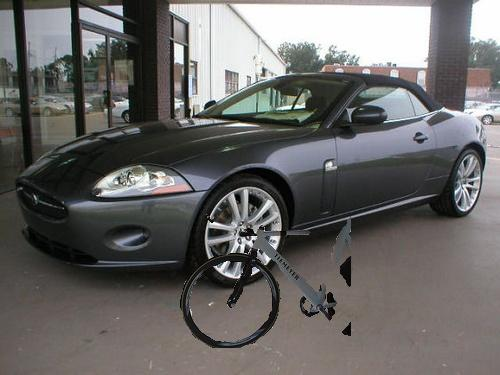tampered: (181, 215, 351, 348)
